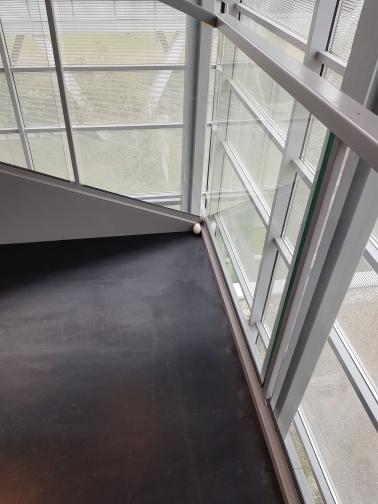egg: (191, 220, 203, 233)
